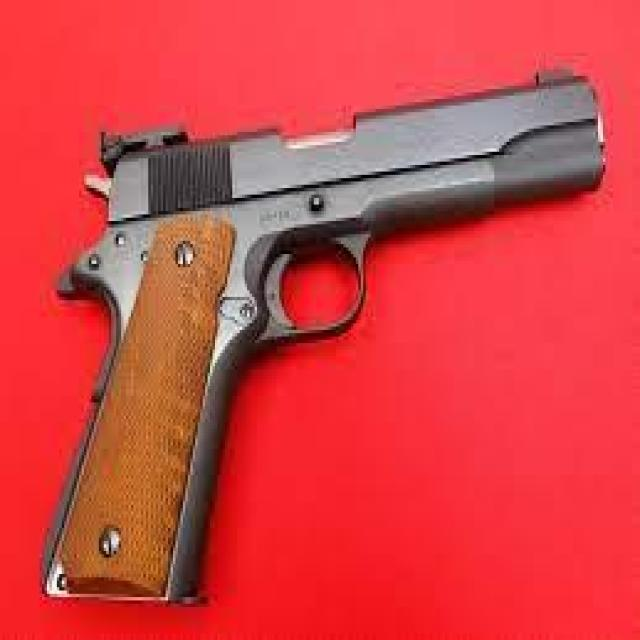gun: (37, 76, 605, 604)
